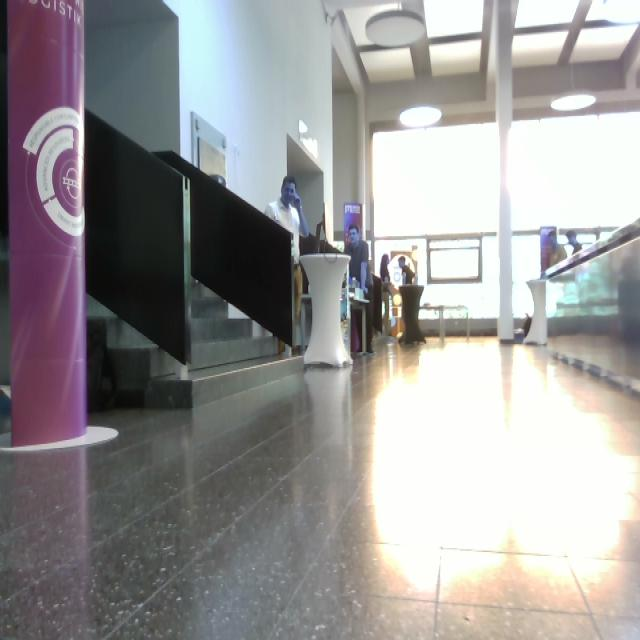door: (152, 149, 288, 372)
light bulb: (365, 8, 427, 49), (400, 106, 442, 129), (551, 93, 597, 112), (393, 295, 402, 307)
person: (264, 176, 310, 358), (344, 224, 376, 356)
pillar: (7, 1, 89, 448), (494, 1, 518, 342)
staircase: (85, 108, 306, 410)
table: (298, 250, 356, 373)
tiled floor: (2, 331, 639, 639)
